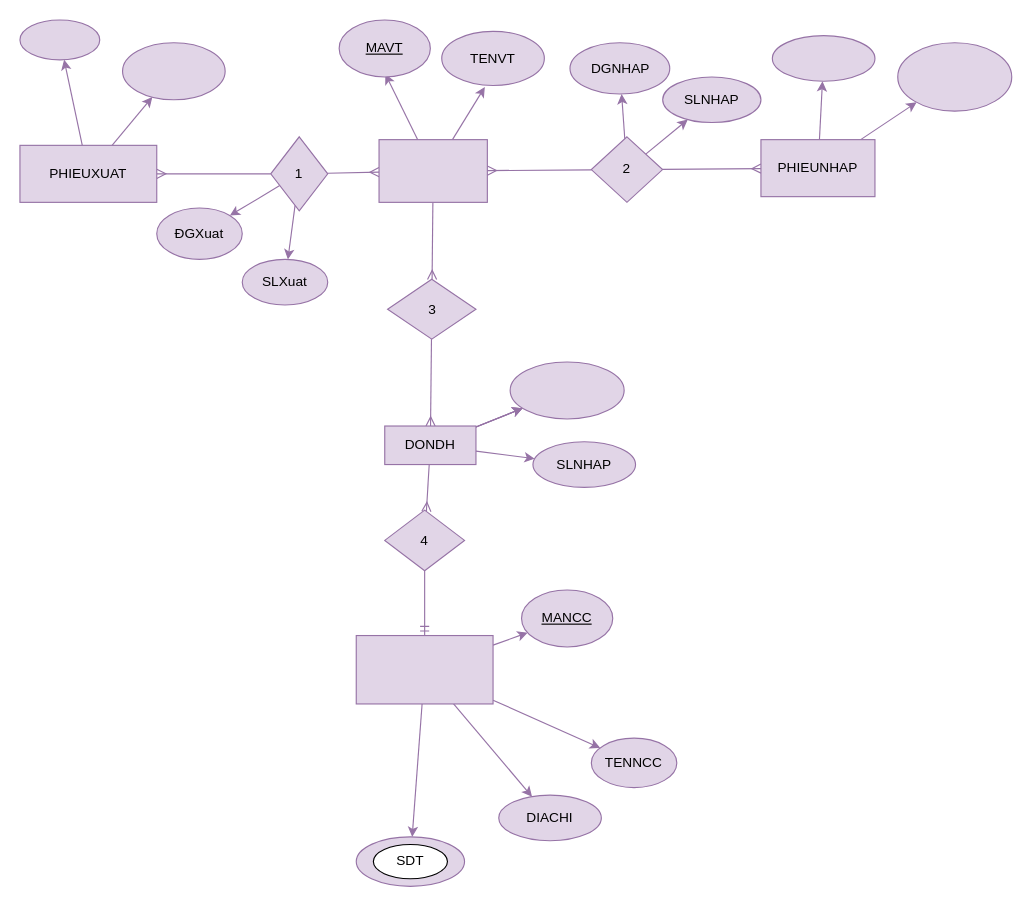
The diagram is 1032 pixels wide and 906 high, and some of its shapes have lost their labels. The centre of each missing label's shape, as x and y in pixels:
NGAYNHAP: the point at 954,76
NgaySanXuat: the point at 173,71
NHACUNGCAP: the point at 424,669
SODH: the point at 566,390
SOPN: the point at 823,58
SoPX: the point at 59,39
VATTU: the point at 432,170
